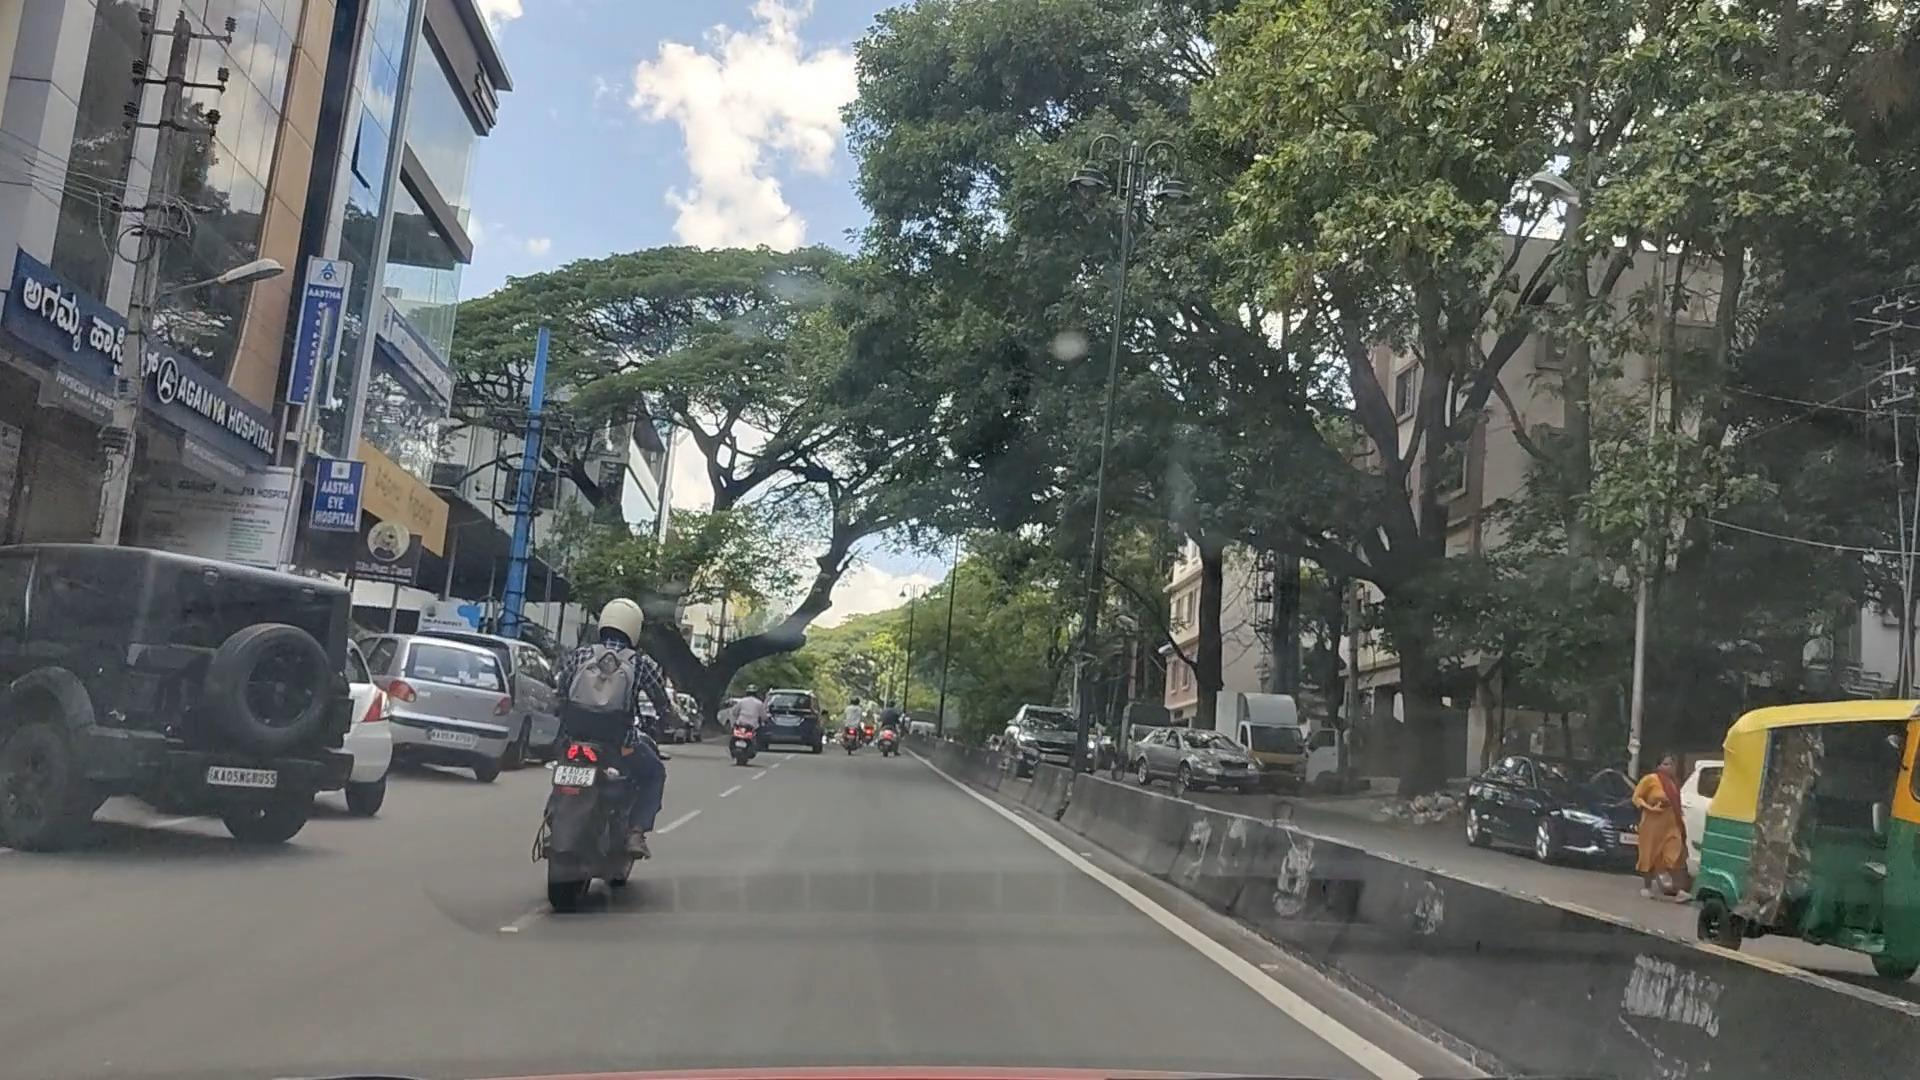LMV: (16, 530, 351, 877), (550, 580, 686, 916)
